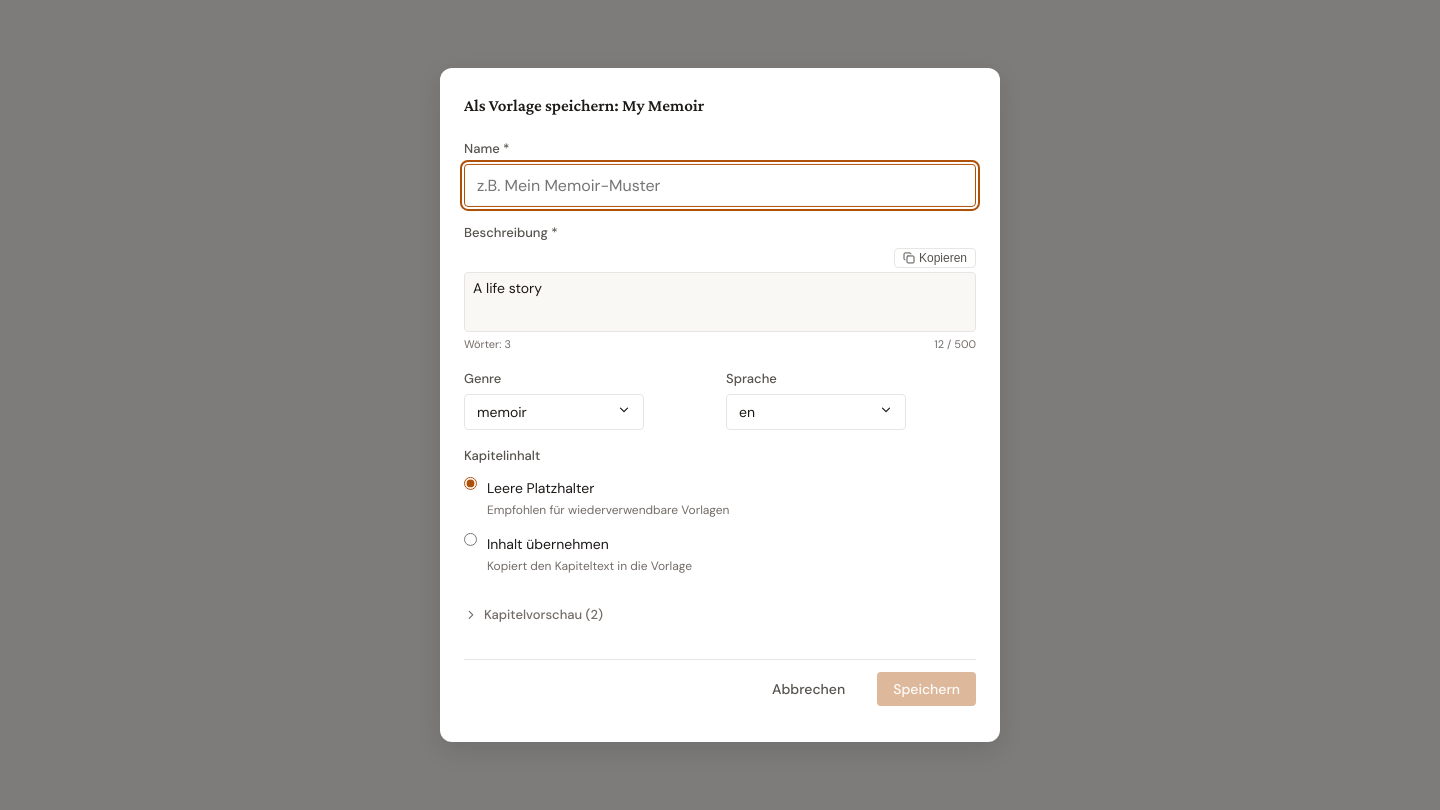
Test: SaveAsTemplateModal › 409 from server renders inline name_taken error
Type "Duplicate Name" into the field with test id "save-template-name" at x=720, y=185, box top-left (464, 164), bottom-right (976, 207)
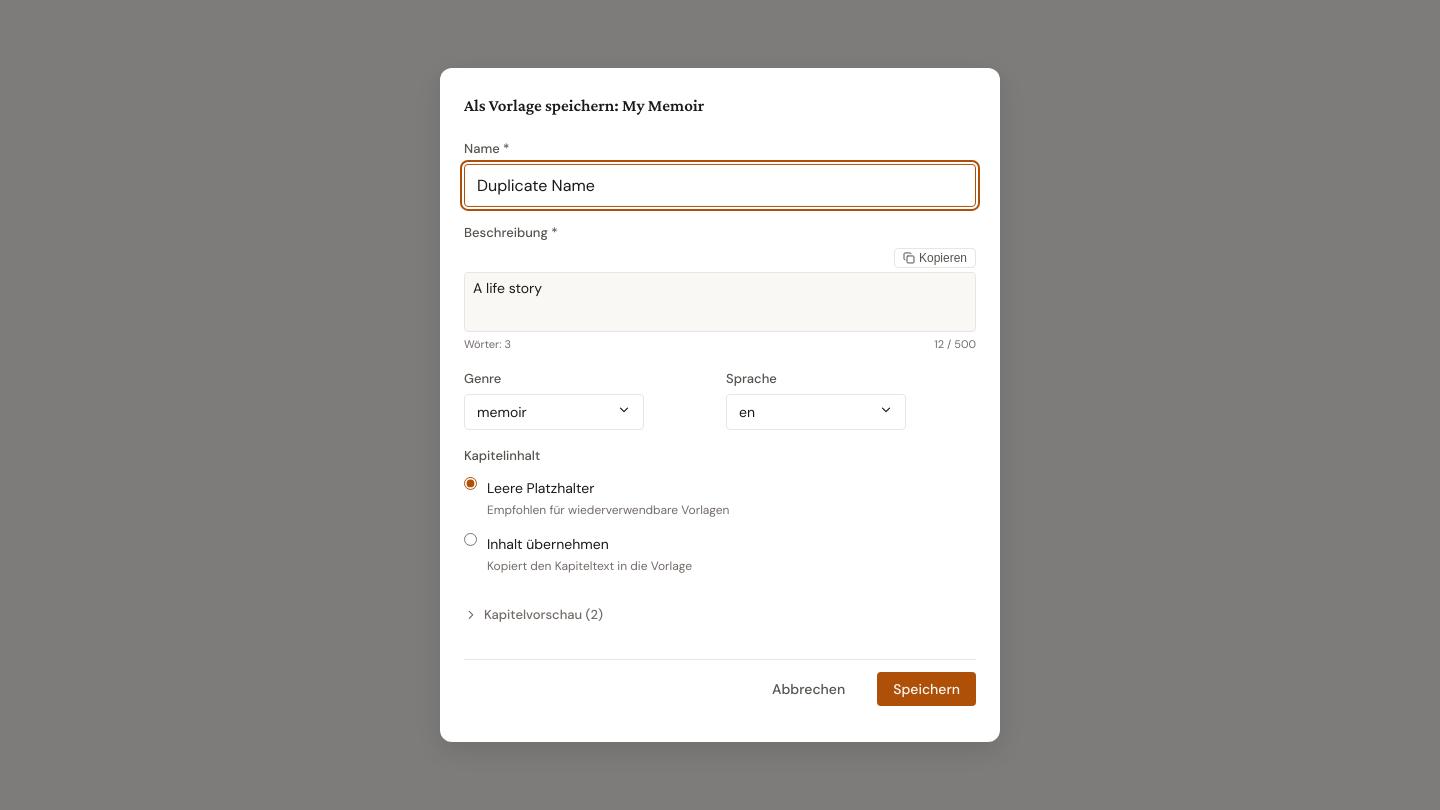
Click the button with test id "save-template-submit" at x=927, y=689, box top-left (877, 672), bottom-right (976, 706)
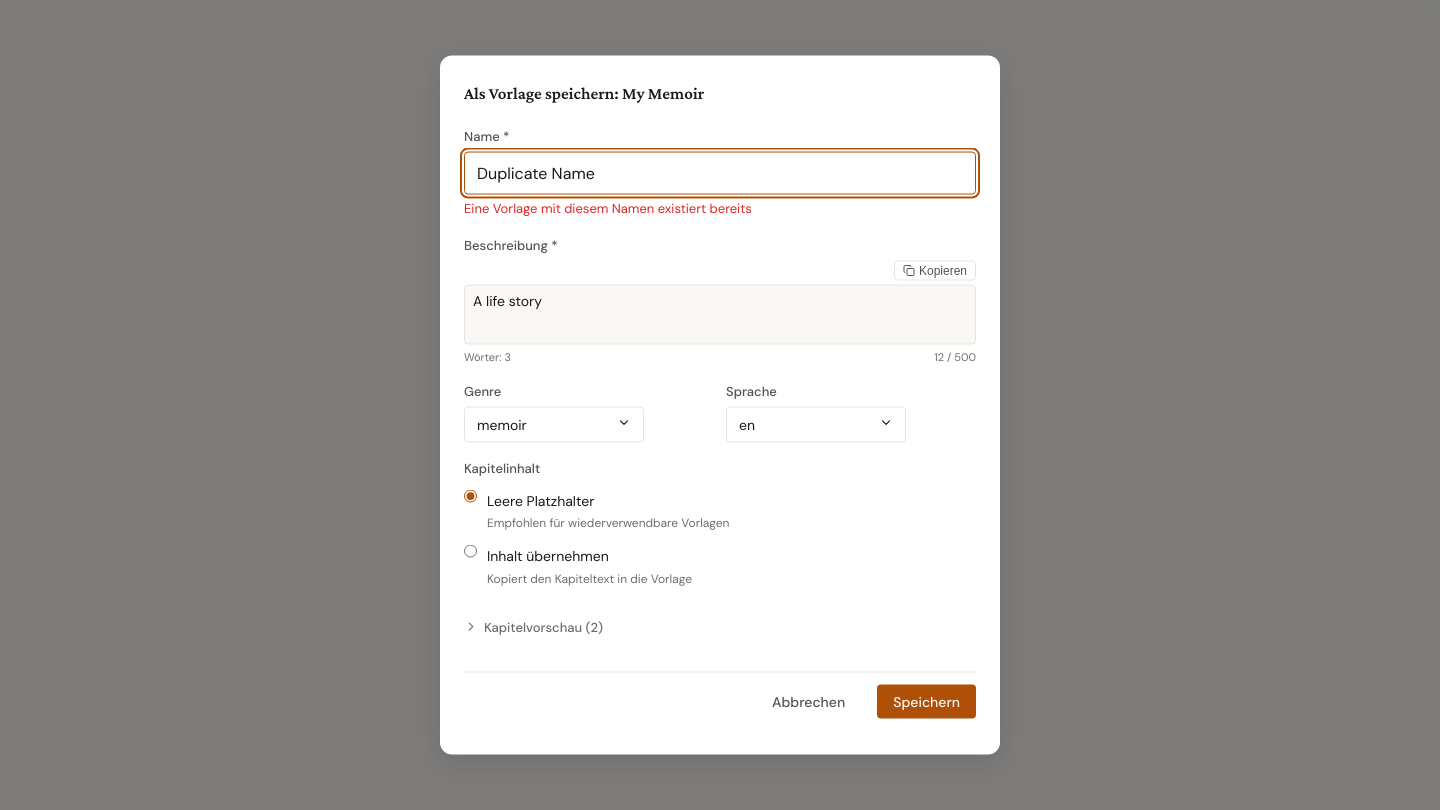
Check: the text with test id "save-template-name-error" shows "existiert bereits", box top-left (464, 200), bottom-right (752, 216)
